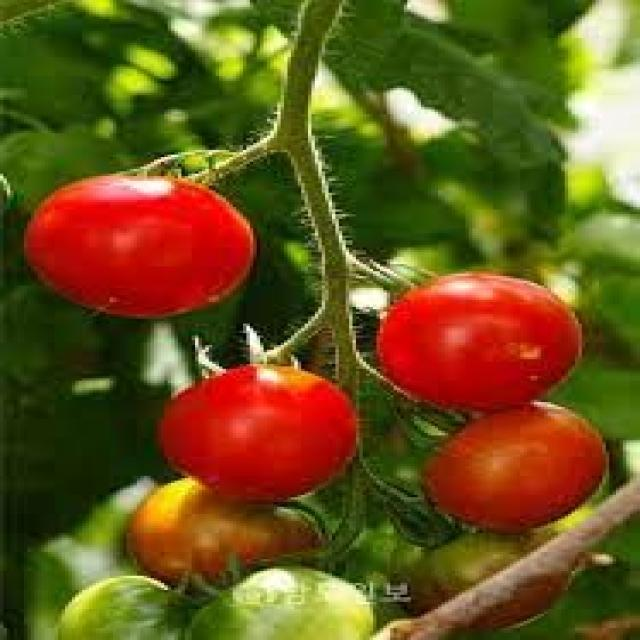level 2: (196, 560, 381, 636), (42, 572, 220, 640)
level 3: (415, 532, 567, 630)
level 4: (111, 468, 345, 588)
level 6: (8, 152, 281, 322), (137, 347, 391, 503), (363, 271, 588, 410), (430, 394, 637, 529)
